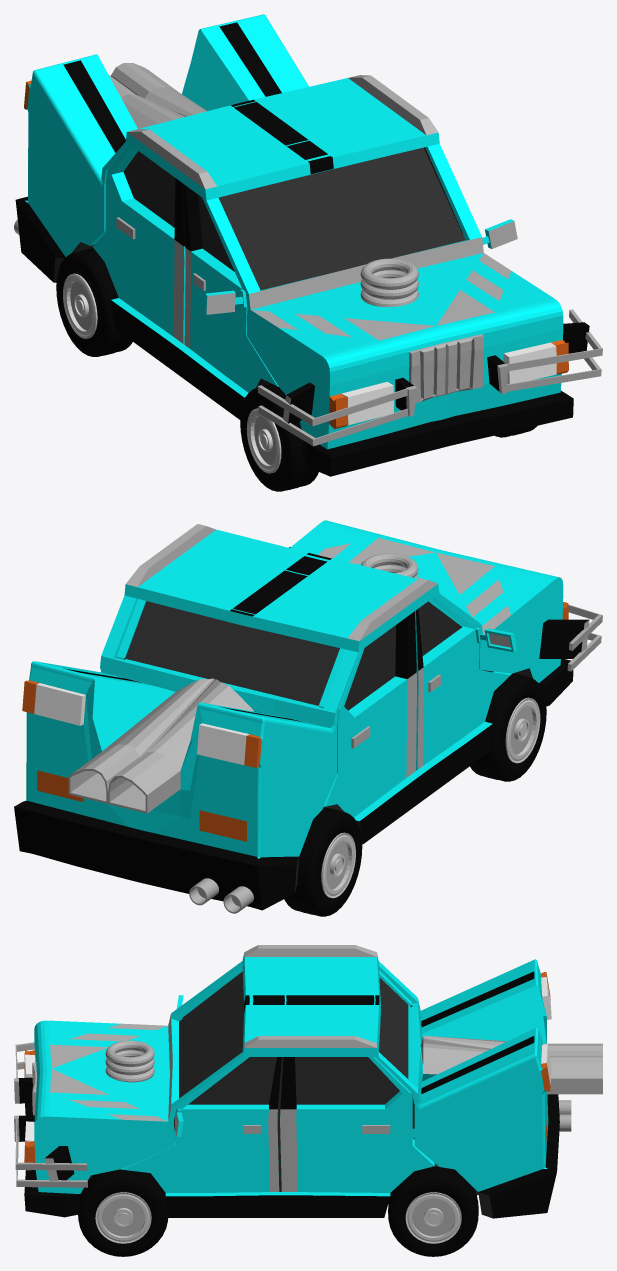
The picture shows the model from 3 angles, top to bottom: view 1: azimuth 30°, elevation 25°; view 2: azimuth 150°, elevation 25°; view 3: azimuth 270°, elevation 25°; orthographic projection. The views are drawn at different scales.
Visible parts, largest first — view 1: BODY37B, WHEEL.004, WHEEL.001, Torus; view 2: BODY37B, WHEEL.004, WHEEL.001, SHACMAN, Torus; view 3: BODY37B, WHEEL.002, WHEEL.003, Torus.
Boxes of the visible parts, x1=… form: BODY37B: x1=15, y1=14, x2=602, y2=476; WHEEL.004: x1=56, y1=248, x2=132, y2=356; WHEEL.001: x1=240, y1=384, x2=318, y2=491; Torus: x1=360, y1=258, x2=418, y2=306; BODY37B: x1=14, y1=520, x2=602, y2=910; WHEEL.004: x1=284, y1=807, x2=362, y2=916; WHEEL.001: x1=470, y1=673, x2=546, y2=781; SHACMAN: x1=189, y1=878, x2=253, y2=913; Torus: x1=361, y1=553, x2=418, y2=578; BODY37B: x1=14, y1=945, x2=602, y2=1218; WHEEL.002: x1=388, y1=1166, x2=478, y2=1256; WHEEL.003: x1=78, y1=1169, x2=168, y2=1256; Torus: x1=105, y1=1040, x2=154, y2=1082.
Bounding box in the file's own units: 132 × 102 × 254.
